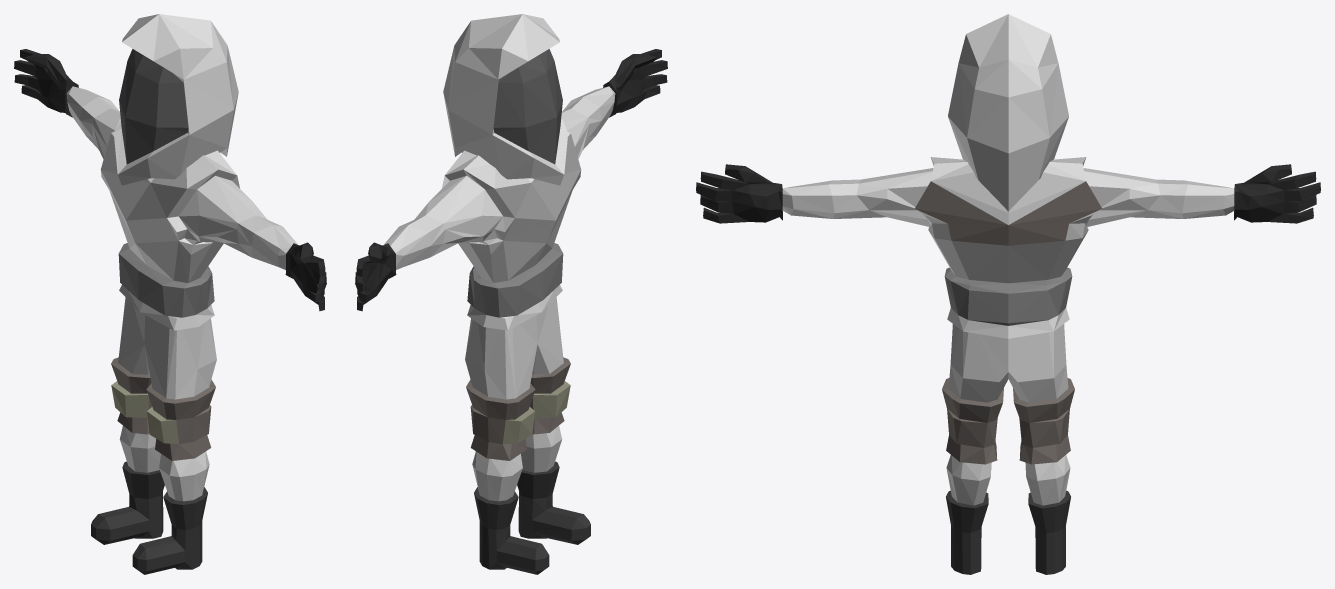
Rendered from TroopMesh.fbx.
3 views of the same model, side by side, from view 1: azimuth 30°, elevation 25°; view 2: azimuth 150°, elevation 25°; view 3: azimuth 270°, elevation 25° (orthographic). The views are drawn at different scales.
Parts seen in each view (by area): view 1: Cube; view 2: Cube; view 3: Cube.
Boxes of the visible parts, x1,y1,x2,y2 form: Cube: [14, 14, 326, 574]; Cube: [355, 14, 667, 574]; Cube: [696, 14, 1320, 574].
Bounding box in the file's own units: 216 × 888 × 915.
